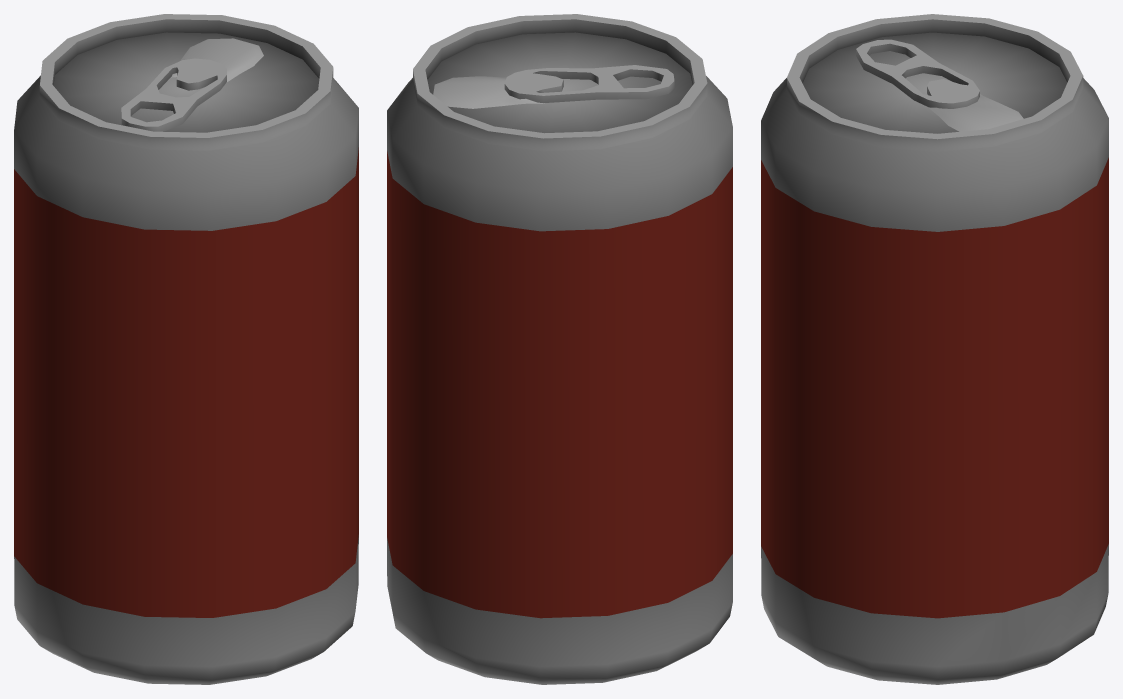
The model's file is SodaCan_Branded.fbx.
3 views of the same model, side by side, from view 1: azimuth 30°, elevation 25°; view 2: azimuth 150°, elevation 25°; view 3: azimuth 270°, elevation 25° (orthographic).
Visible parts, largest first — view 1: SodaCan_Branded; view 2: SodaCan_Branded; view 3: SodaCan_Branded.
Boxes of the visible parts, <box> form: SodaCan_Branded: <box>14,14,358,684</box>; SodaCan_Branded: <box>387,14,732,684</box>; SodaCan_Branded: <box>761,14,1108,684</box>.
Bounding box in the file's own units: 26.87 × 46.26 × 26.86.
